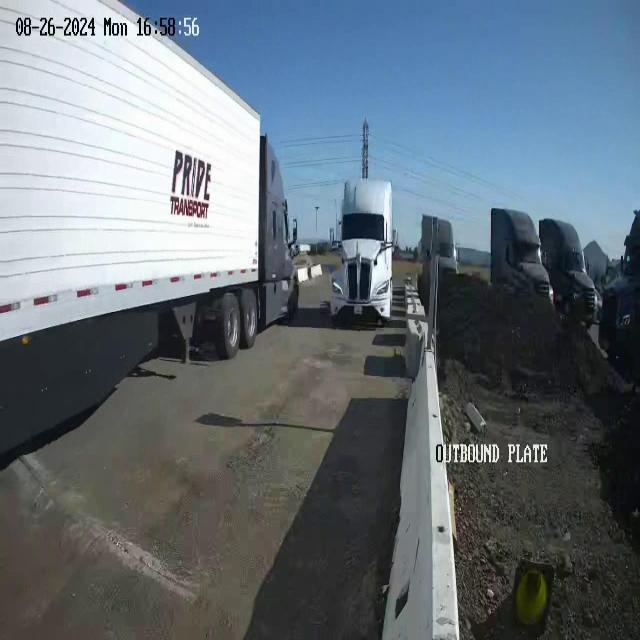TRUCK_IN: (0, 0, 307, 348)
TRUCK_OUT: (330, 166, 401, 337)
